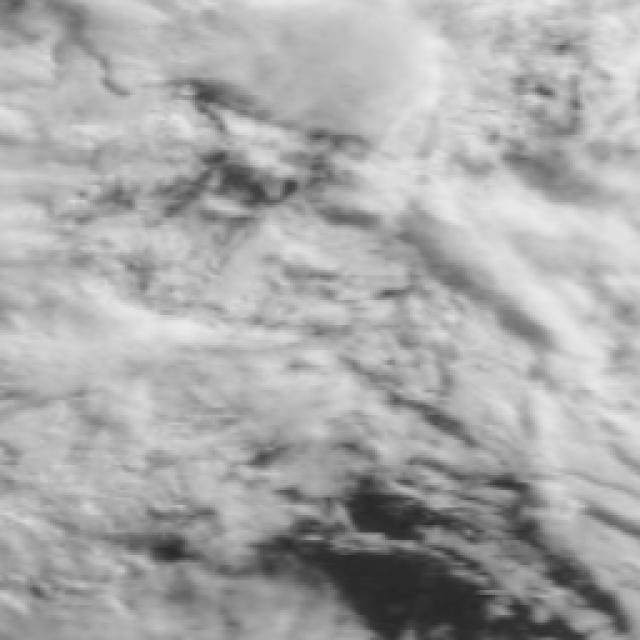CB: (2, 262, 178, 427), (436, 164, 630, 310), (479, 326, 640, 454), (266, 4, 450, 114), (216, 306, 384, 419)
